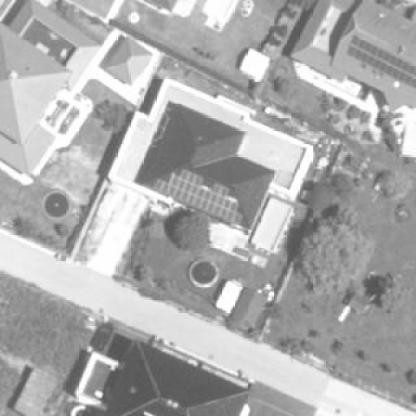solar-pv-panel: (154, 169, 243, 225), (347, 35, 416, 89)
